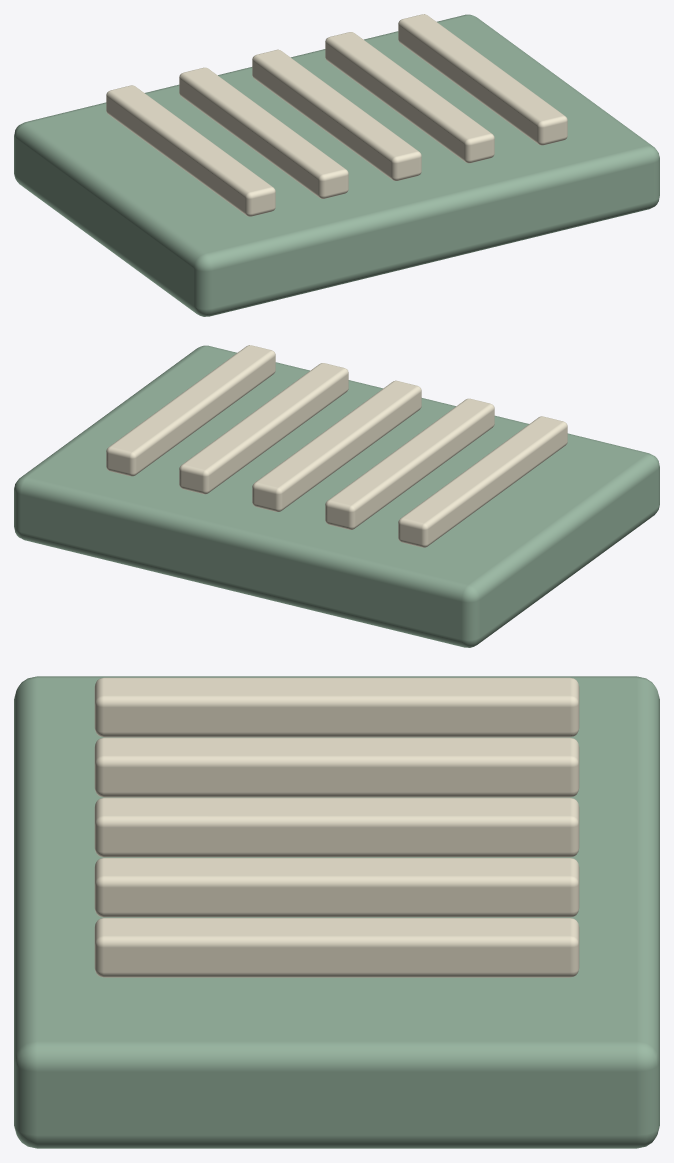
Rendered from ceramics-pottery-studio-soap-drainer-daceb0a7__29523.glb.
3 views of the same model, one above another, from view 1: azimuth 30°, elevation 25°; view 2: azimuth 150°, elevation 25°; view 3: azimuth 270°, elevation 25° (orthographic). The views are drawn at different scales.
Visible parts, largest first — view 1: soap-drainer; view 2: soap-drainer; view 3: soap-drainer.
Boxes of the visible parts, x1,y1,x2,y2 form: soap-drainer: [14, 14, 659, 316]; soap-drainer: [14, 345, 659, 647]; soap-drainer: [14, 676, 659, 1148].
Size of the model in its own units: 0.14 by 0.027 by 0.1.
